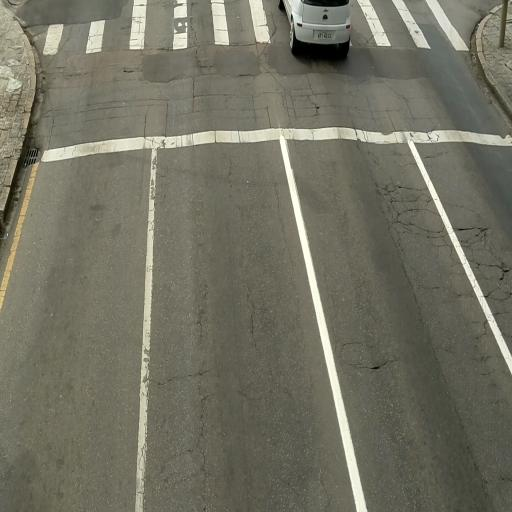car: (280, 0, 354, 54)
